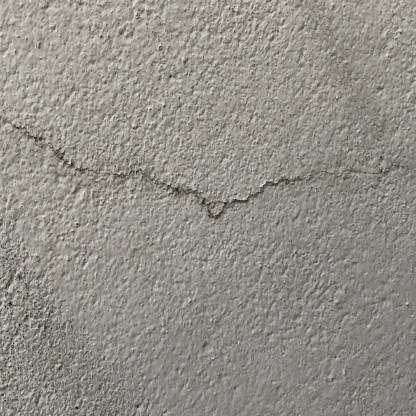crack: (1, 112, 387, 224)
